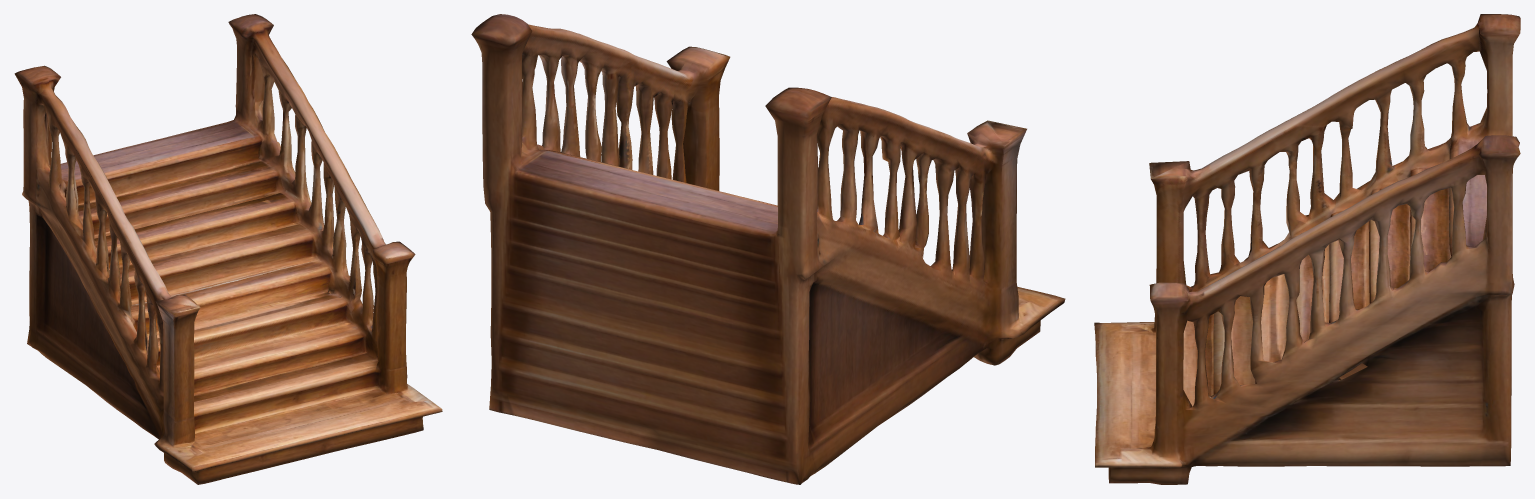
3 views of the same model, side by side, from view 1: azimuth 30°, elevation 25°; view 2: azimuth 150°, elevation 25°; view 3: azimuth 270°, elevation 25° (orthographic). The views are drawn at different scales.
Bounding box in the file's own units: 1.6 × 1.77 × 2.
Materials: 1 (1 with a texture image).
